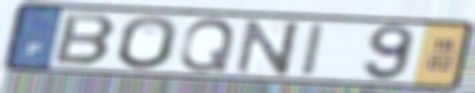9: (360, 23, 418, 82)
B: (51, 11, 120, 67)
I: (299, 21, 328, 78)
N: (233, 18, 304, 76)
O: (115, 14, 181, 71)
Q: (177, 16, 239, 74)
